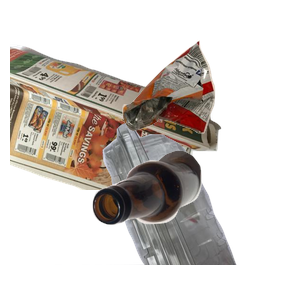glass: (90, 148, 300, 300)
paper: (10, 42, 224, 222)
plastic: (55, 120, 284, 300)
trash: (120, 38, 300, 164)
